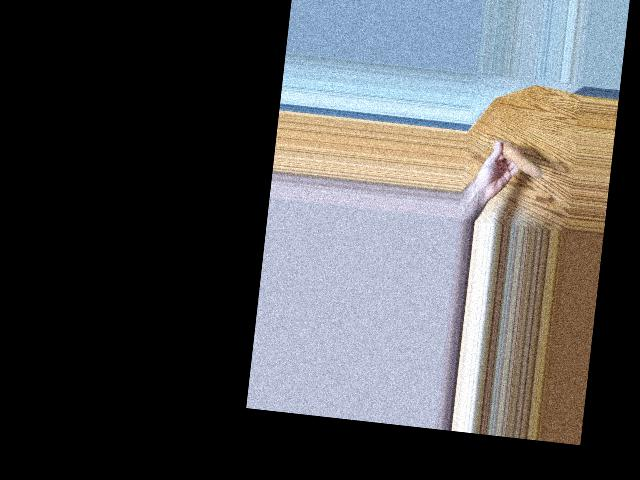sweet_potato: (487, 137, 545, 179)
